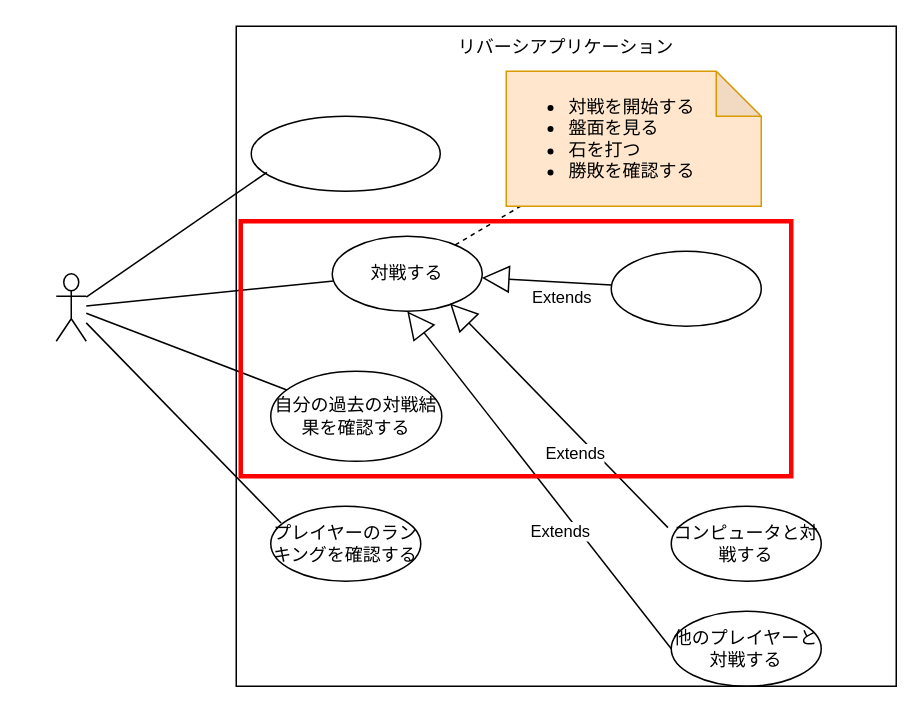
Some shapes in this 923 by 713 pixel diagram are drawn without their labels. Here are the shapes that lost their labels. From the top down, the centre of each, then its label:
[345,153]: 会員登録・ログイン
[70,306]: プレイヤー
[685,288]: 一人で黒白交互に打つ
